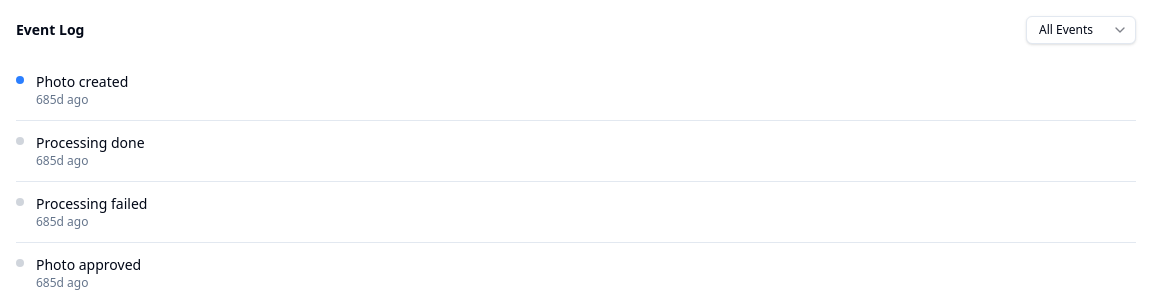
Test: EventLogPanel › filtering › should filter to success only
The width and height of the screenshot is (1152, 307).
Select "Success" in the dropdown at (1081, 30), box [1026,16,1136,44]
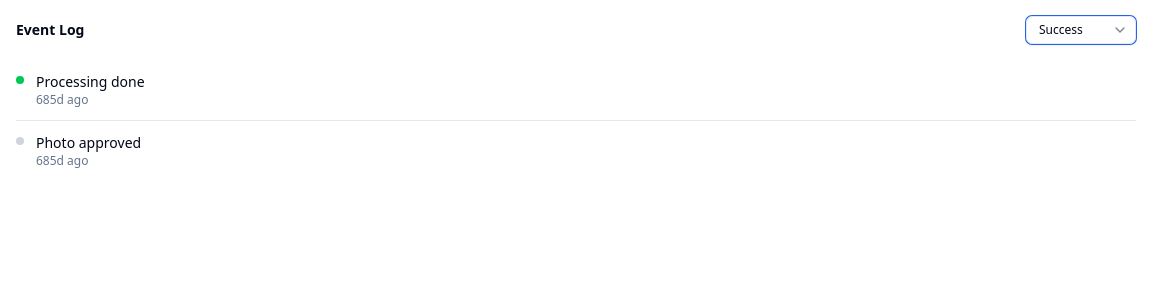
Expected: the text "Processing done" is shown, [36,72,145,91]
Now the text "Photo created" is gone
